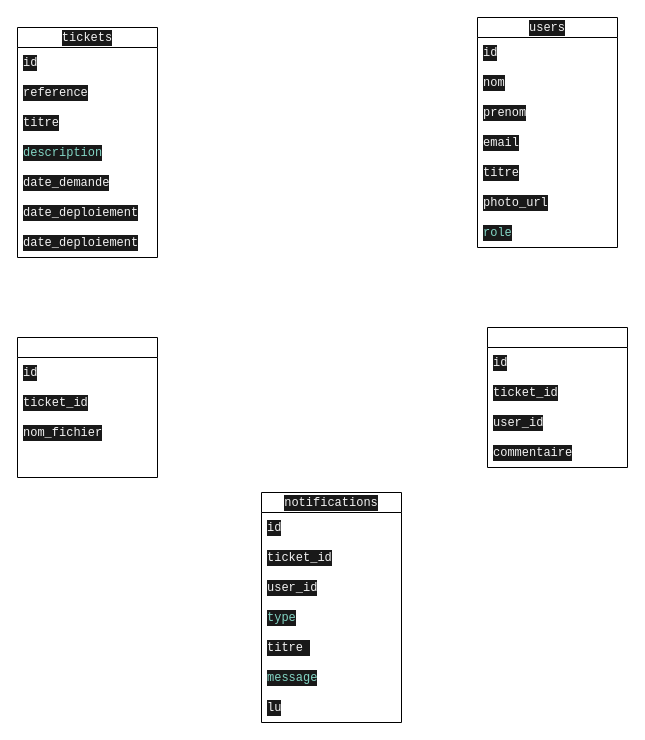
Some shapes in this 645 by 740 pixel diagram are drawn without their labels. The box of each missing label's shape, as (x1, y1, x2, y2) in pixels:
ticket_comments: (486, 326, 628, 468)
ticket_documents: (16, 336, 158, 478)
